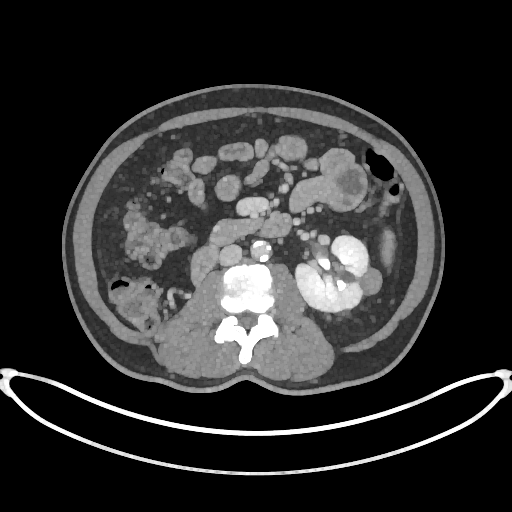Lesion: (357, 266, 382, 296)
